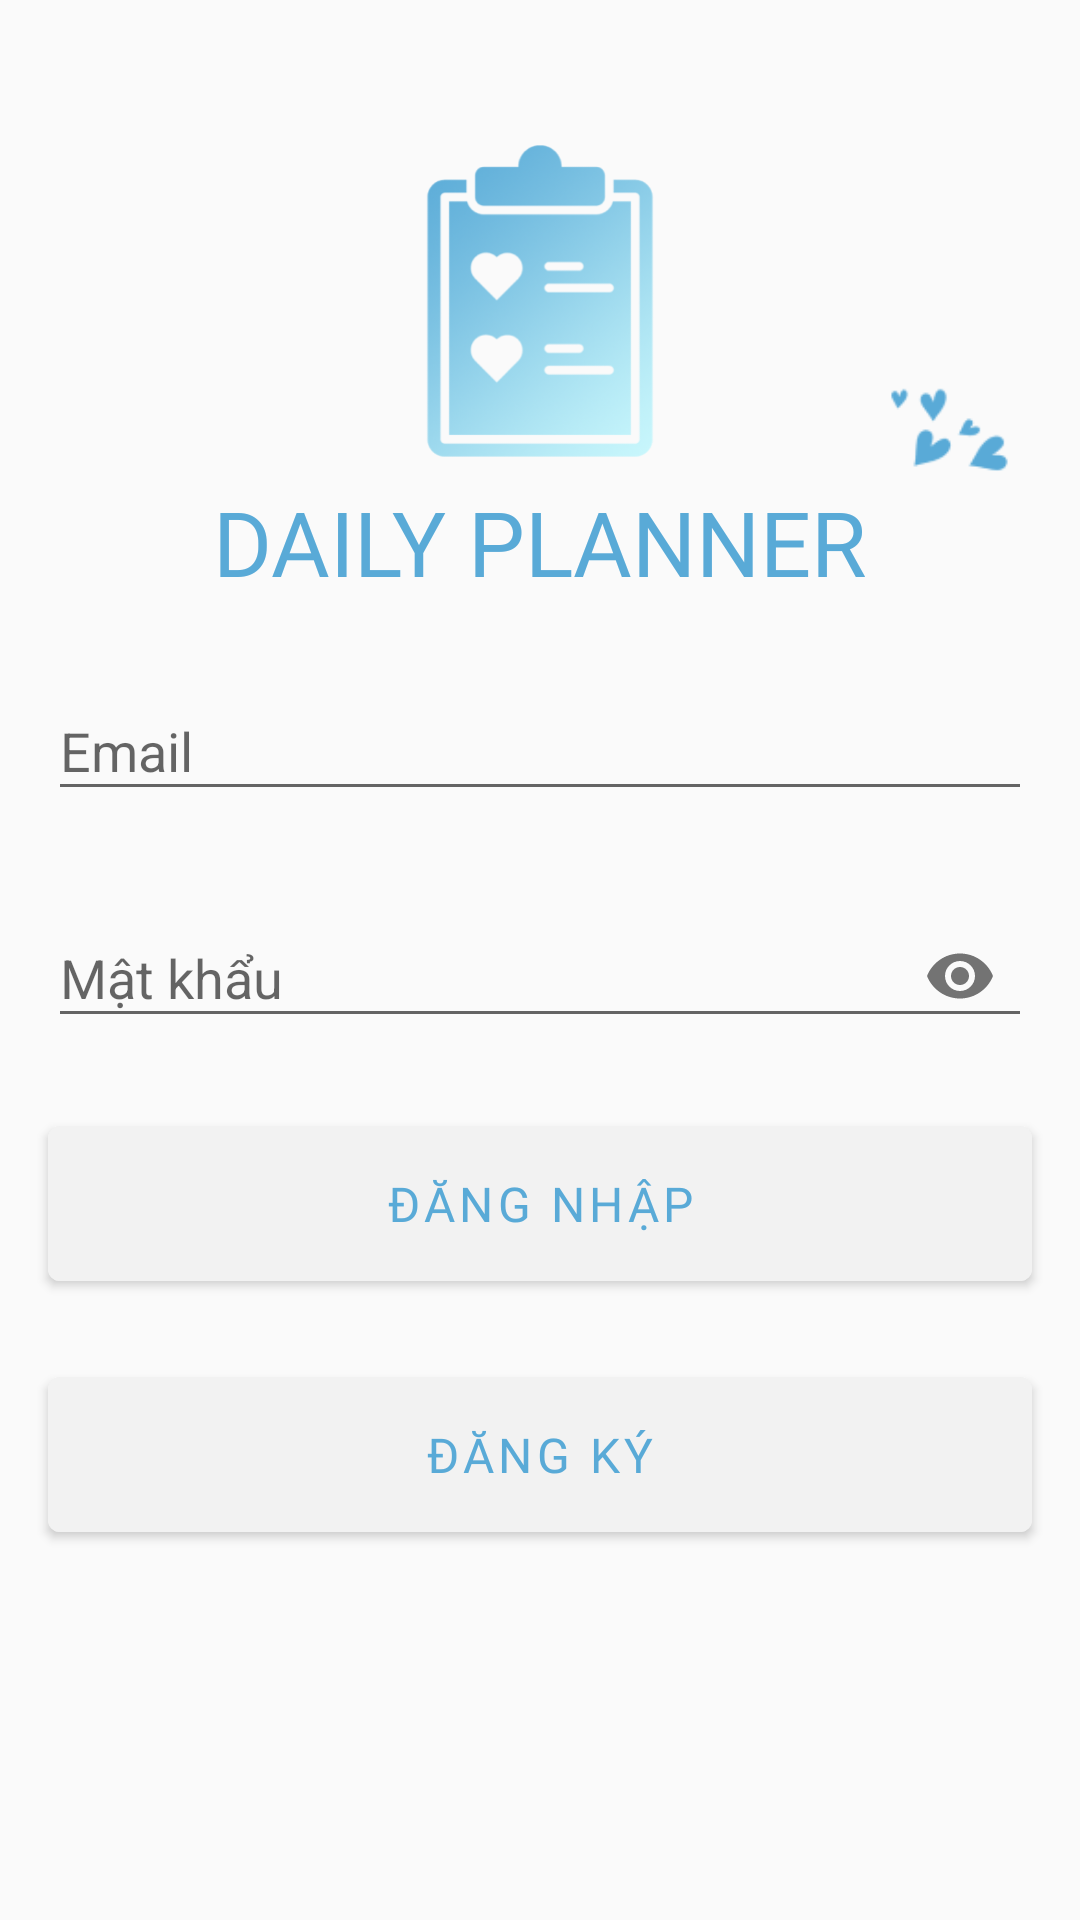

Icons on this 1080 × 1920 Android screen, each with the point to tap as (x,y):
heart: (949,430)
